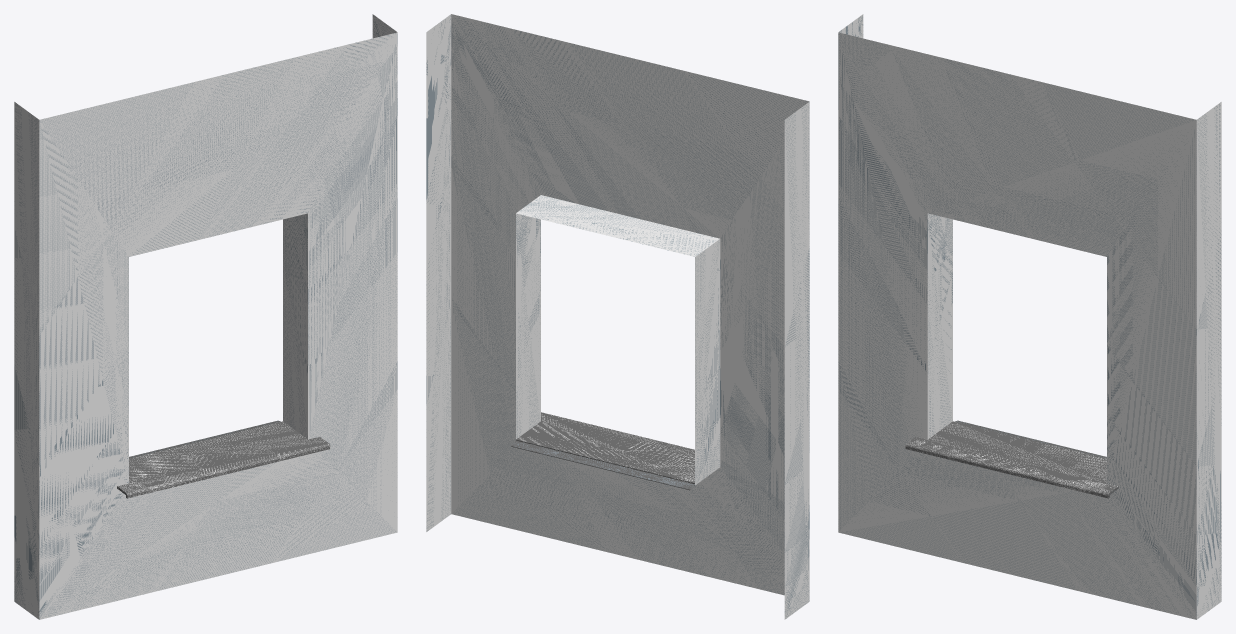
File: WindowBlock_os_[300x400]_150x181x[090].dae
The picture shows the model from 3 angles, left to right: view 1: azimuth 30°, elevation 25°; view 2: azimuth 150°, elevation 25°; view 3: azimuth 330°, elevation 25°; orthographic projection.
Visible parts, largest first — view 1: group_2 (×2), group_1; view 2: group_2 (×2), group_1 (×2); view 3: group_2 (×2), group_1.
Boxes of the visible parts, x1,y1,x2,y2 form: group_2 (×2): (14, 14, 397, 619); group_1: (117, 421, 330, 498); group_2 (×2): (426, 14, 809, 619); group_1 (×2): (511, 412, 694, 490); group_2 (×2): (838, 14, 1221, 619); group_1: (905, 421, 1118, 498).
Bounding box in the file's own units: 118 × 23.03 × 157.
